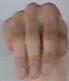M: (1, 0, 69, 81)
